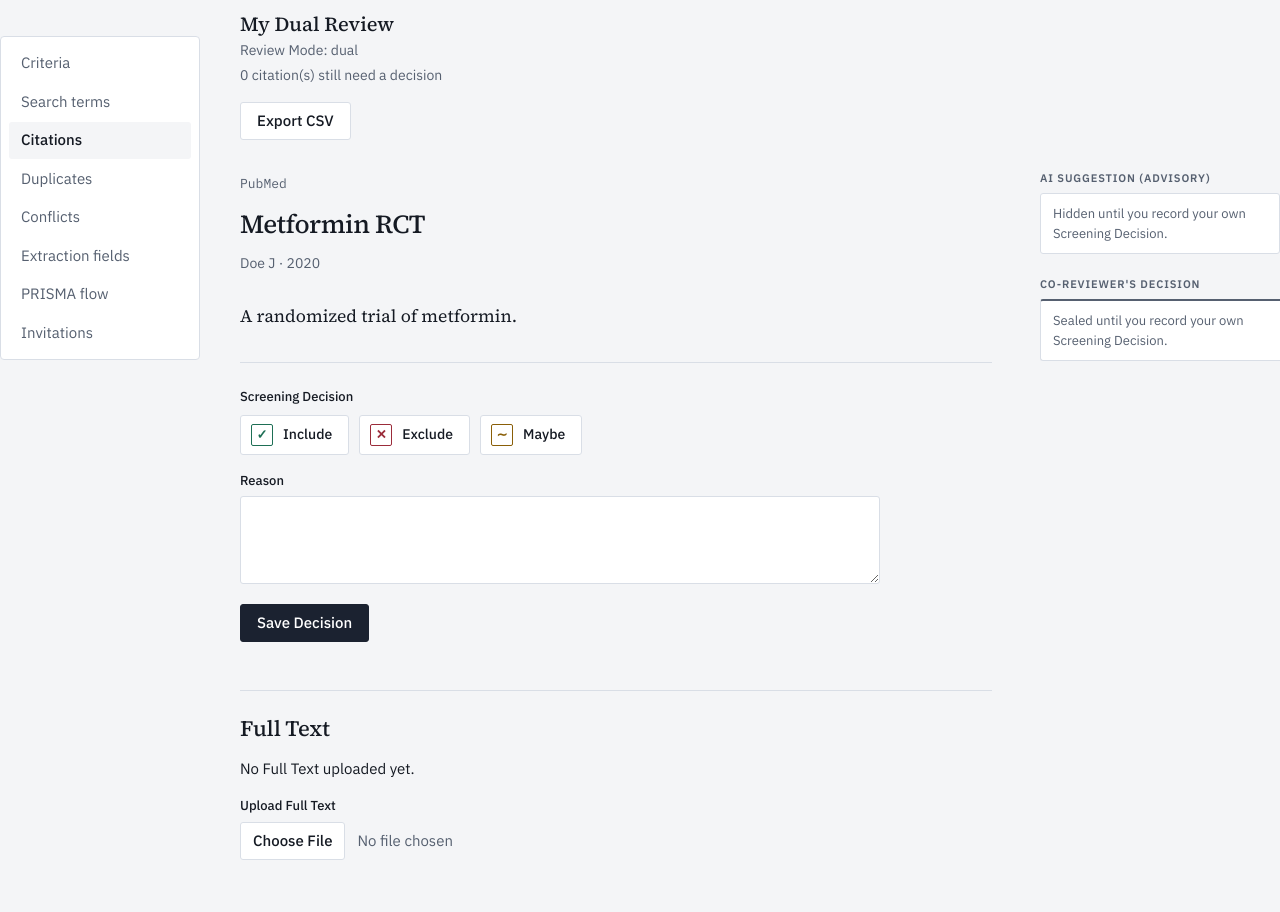
CitationScreeningPage › saving a decision while the suggestion is still being generated (blind Dual) › asks once more if generating it failed, and reports a second failure
The width and height of the screenshot is (1280, 912).
Expected: the text "Hidden until you record your own Screening Decision." is shown, [1053,204,1267,243]
Click the radio button labelled "include" at (295, 435), box [240,415,349,455]
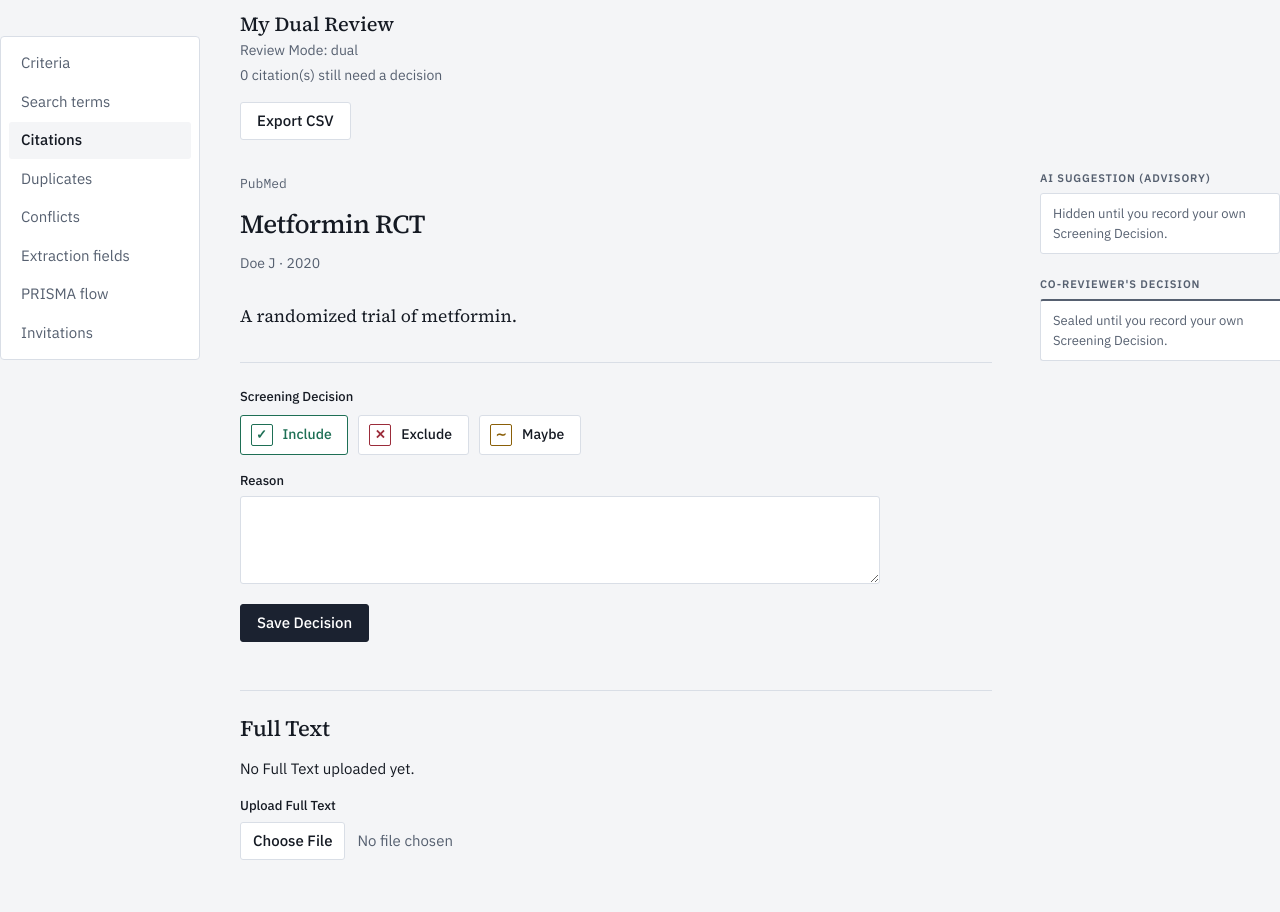
Click the button "Save Decision" at (305, 623), box [240,604,369,642]
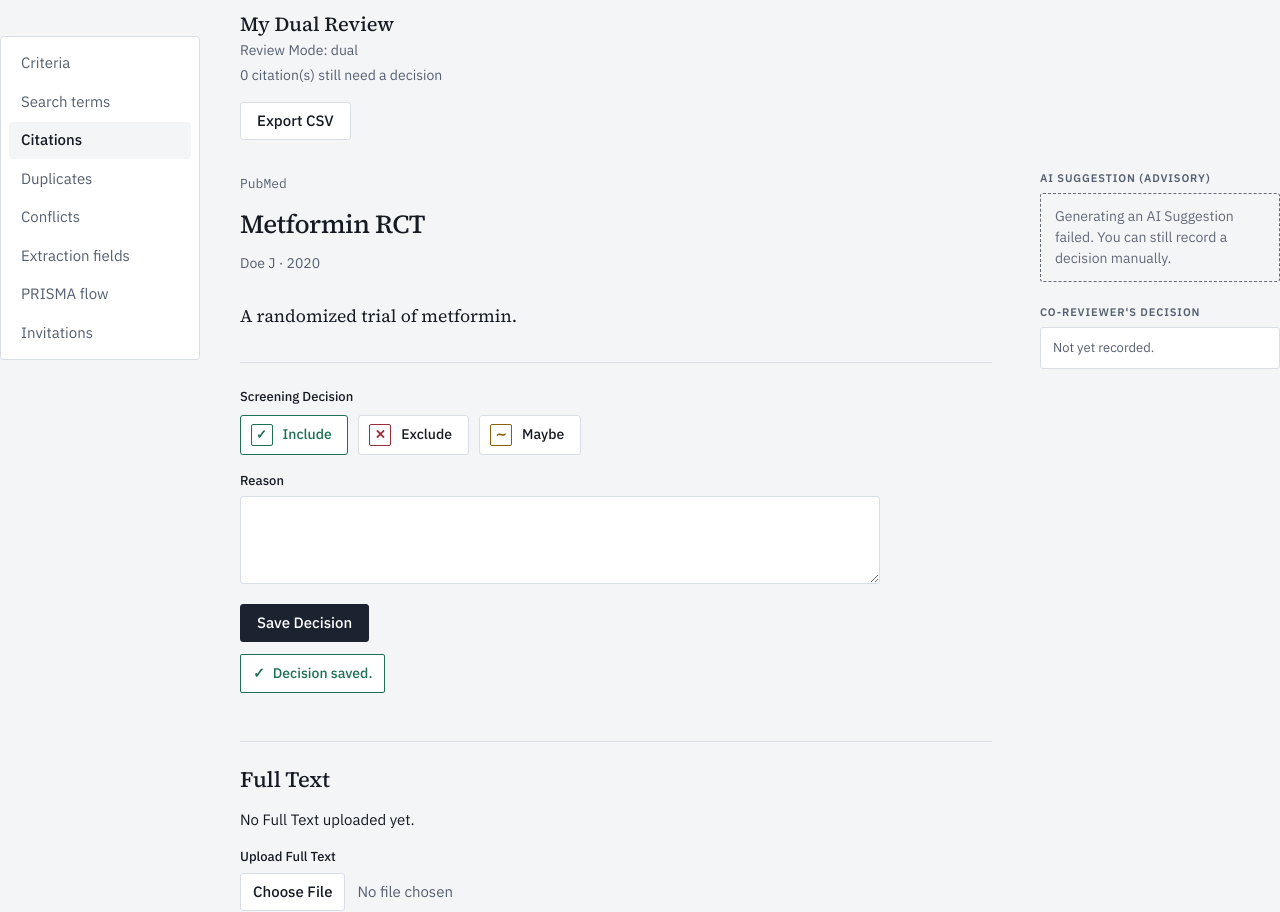
Now the text "Decision saved." is shown, box [240,654,385,693]
Now the text "Generating an AI Suggestion failed" is shown, box [1055,207,1234,267]
